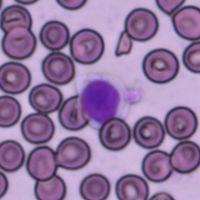L: (78, 72, 130, 128)
